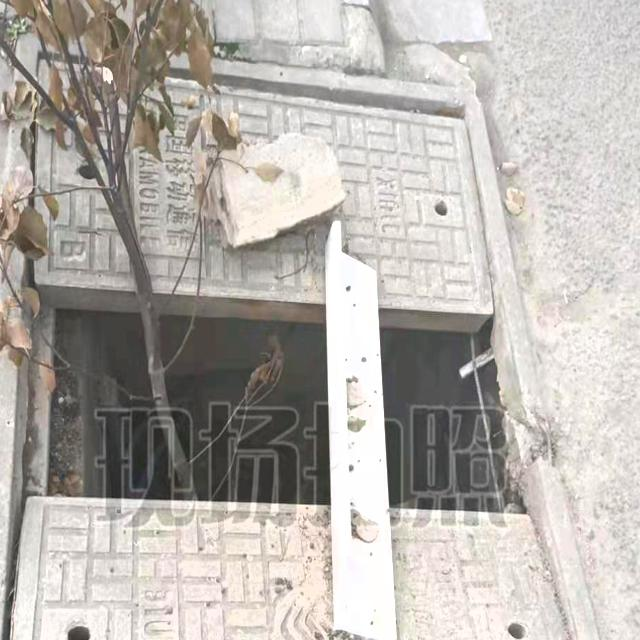lose: (0, 29, 640, 640)
